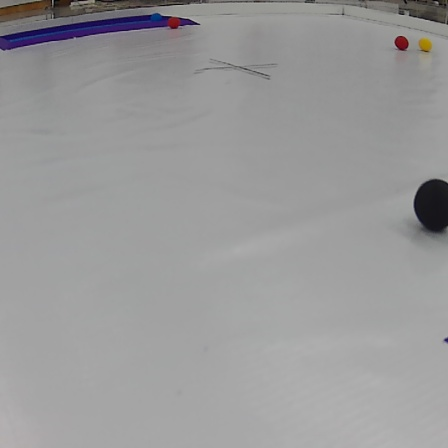black: (414, 173, 448, 247)
blue: (147, 9, 167, 27)
blue_aim: (0, 14, 211, 50)
red: (393, 32, 413, 54), (167, 14, 184, 31)
yellow: (415, 31, 435, 56)
